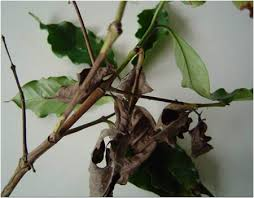mal de hilachas: (46, 46, 216, 186)
